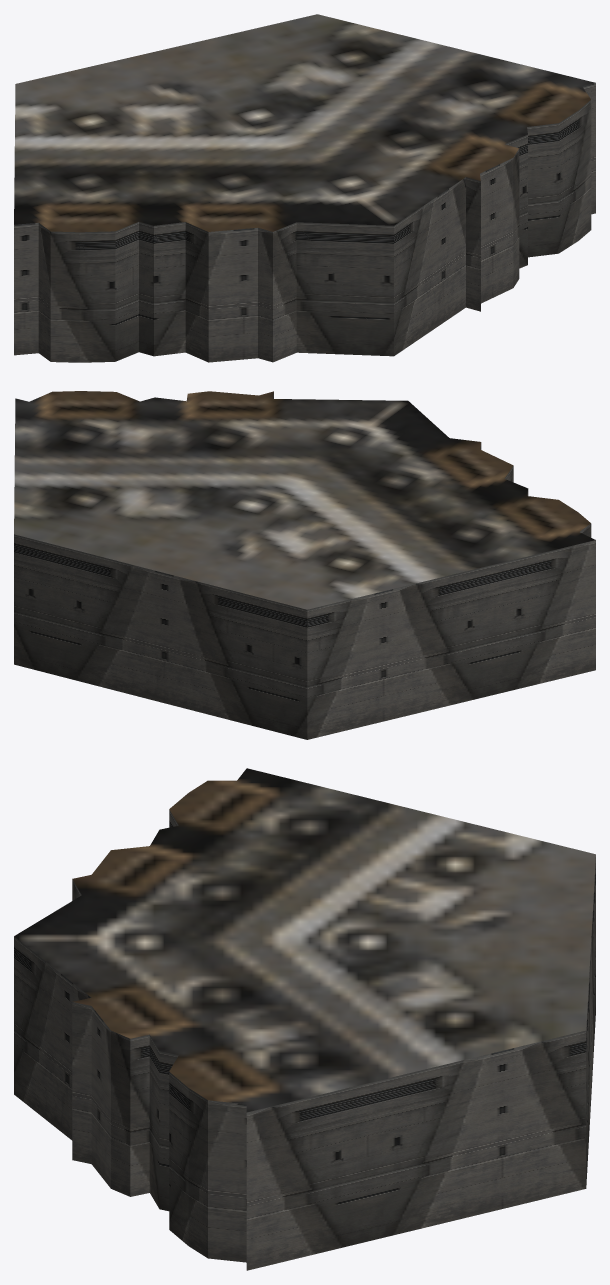
Rendered from fortress_hard_a_35.glb.
3 views of the same model, one above another, from view 1: azimuth 30°, elevation 25°; view 2: azimuth 150°, elevation 25°; view 3: azimuth 270°, elevation 25° (orthographic). The views are drawn at different scales.
Parts seen in each view (by area): view 1: buildings/saxarba/fortress_hard/fortress_hard_a_35; view 2: buildings/saxarba/fortress_hard/fortress_hard_a_35; view 3: buildings/saxarba/fortress_hard/fortress_hard_a_35.
Boxes of the visible parts, <box> form: buildings/saxarba/fortress_hard/fortress_hard_a_35: <box>14,14,595,362</box>; buildings/saxarba/fortress_hard/fortress_hard_a_35: <box>14,391,595,739</box>; buildings/saxarba/fortress_hard/fortress_hard_a_35: <box>14,768,595,1270</box>.
Size of the model in its own units: 84 by 18 by 60.
